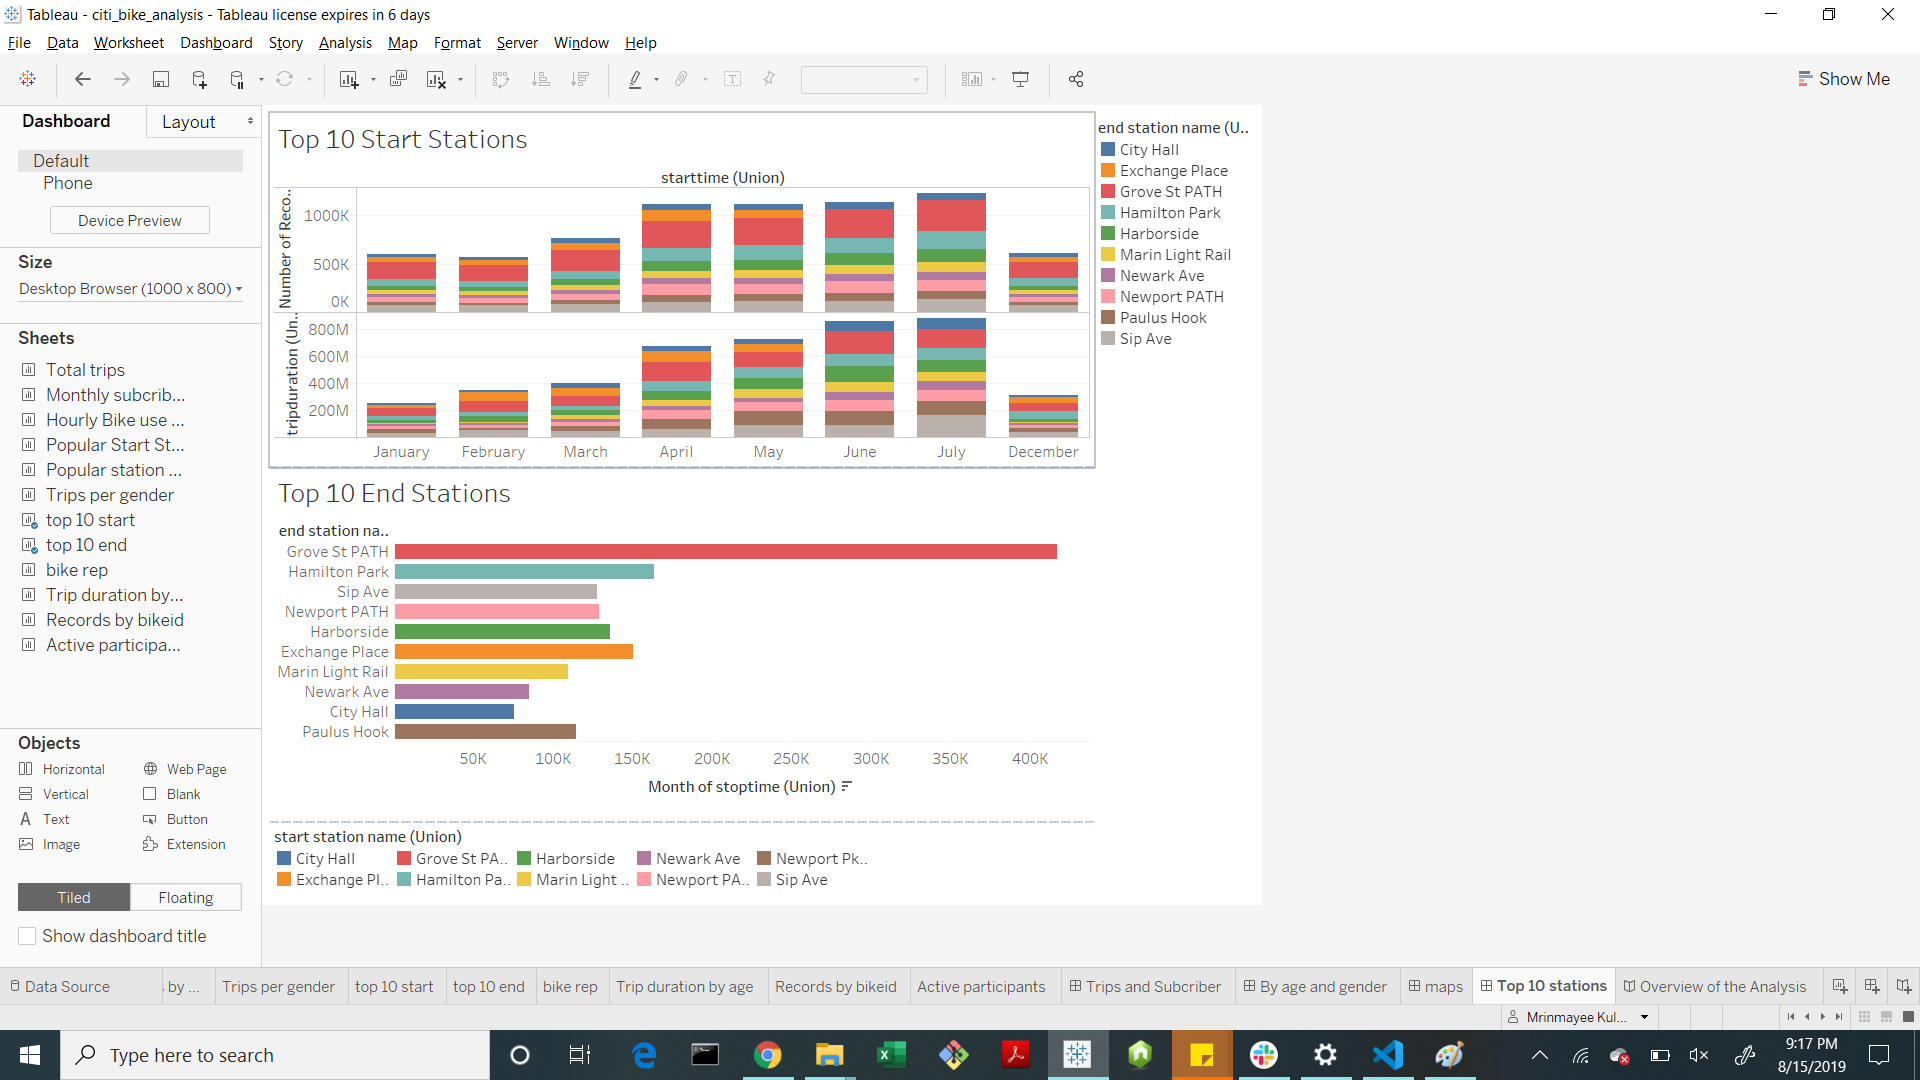

Layout of this report page (visuals, bound fields, positions):
{"tool":"tableau","page":{"name":"Top 10 stations","canvas":[1000,800],"ordinal":1},"visuals":[{"type":"worksheet","title":"top 10 start","mark":"Bar","rows":["Number of Records","tripduration (Union)"],"cols":["starttime (Union)"],"box":[8,8,824,354.5]},{"type":"legend","title":"top 10 end","param":"[federated.0bjqk4u1wdq1g41czazz71danlju].[none:end station name (Union):nk]","box":[832,8,160,240]},{"type":"worksheet","title":"top 10 end","mark":"Automatic","rows":["end station name (Union)"],"cols":["stoptime (Union)"],"box":[8,362.5,824,354.5]},{"type":"legend","title":"top 10 start","param":"[federated.0bjqk4u1wdq1g41czazz71danlju].[none:start station name (Union):nk]","box":[8,717,824,75]}]}

Visuals, with their boxes on the page's 1000x800 design canvas (x1, y1, x2, y2). These are canvas units, not pixel positions in the 1920x1080 screenshot, which may show the page scaled, cropped or inside an application window:
"top 10 start" worksheet (Bar marks): 8:8:832:362
"top 10 end" legend: 832:8:992:248
"top 10 end" worksheet: 8:362:832:717
"top 10 start" legend: 8:717:832:792
